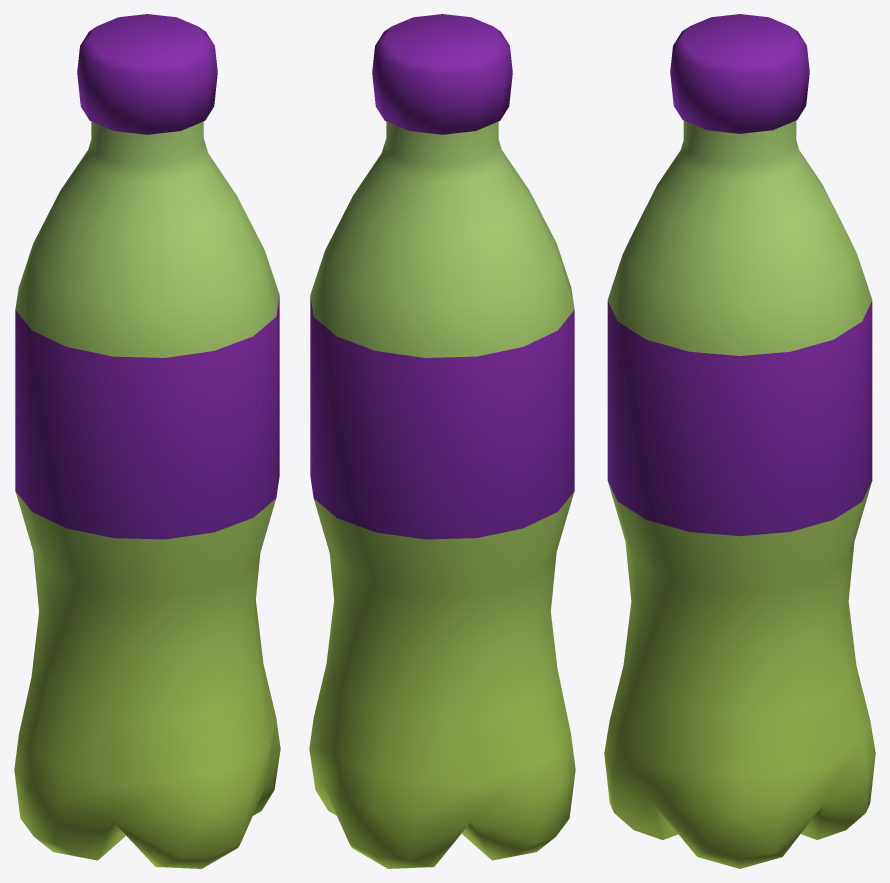
The model's file is bottle_003.fbx.
3 renders of one model, left to right at view 1: azimuth 30°, elevation 25°; view 2: azimuth 150°, elevation 25°; view 3: azimuth 270°, elevation 25°, orthographic.
Parts seen in each view (by area): view 1: bottle_003; view 2: bottle_003; view 3: bottle_003.
Boxes of the visible parts, x1,y1,x2,y2 form: bottle_003: [14, 14, 280, 868]; bottle_003: [309, 14, 575, 868]; bottle_003: [604, 14, 875, 868].
Bounding box in the file's own units: 6.14 × 6.14 × 19.86.
